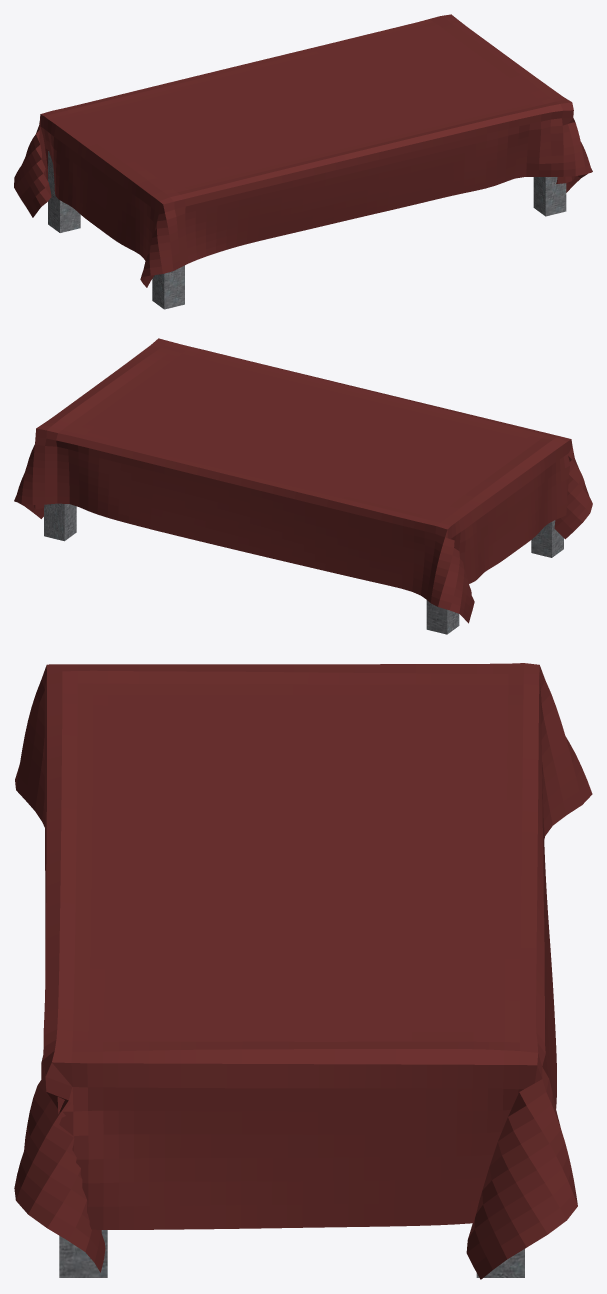
Rendered from mesacarpa.fbx.
3 renders of one model, top to bottom at view 1: azimuth 30°, elevation 25°; view 2: azimuth 150°, elevation 25°; view 3: azimuth 270°, elevation 25°, orthographic. The views are drawn at different scales.
Parts seen in each view (by area): view 1: Plane; view 2: Plane; view 3: Plane.
Boxes of the visible parts, x1,y1,x2,y2 form: Plane: [14, 14, 592, 309]; Plane: [14, 338, 592, 634]; Plane: [14, 663, 592, 1279].
Size of the model in its own units: 449 by 106 by 249.
Materials: 6 (6 with a texture image).
